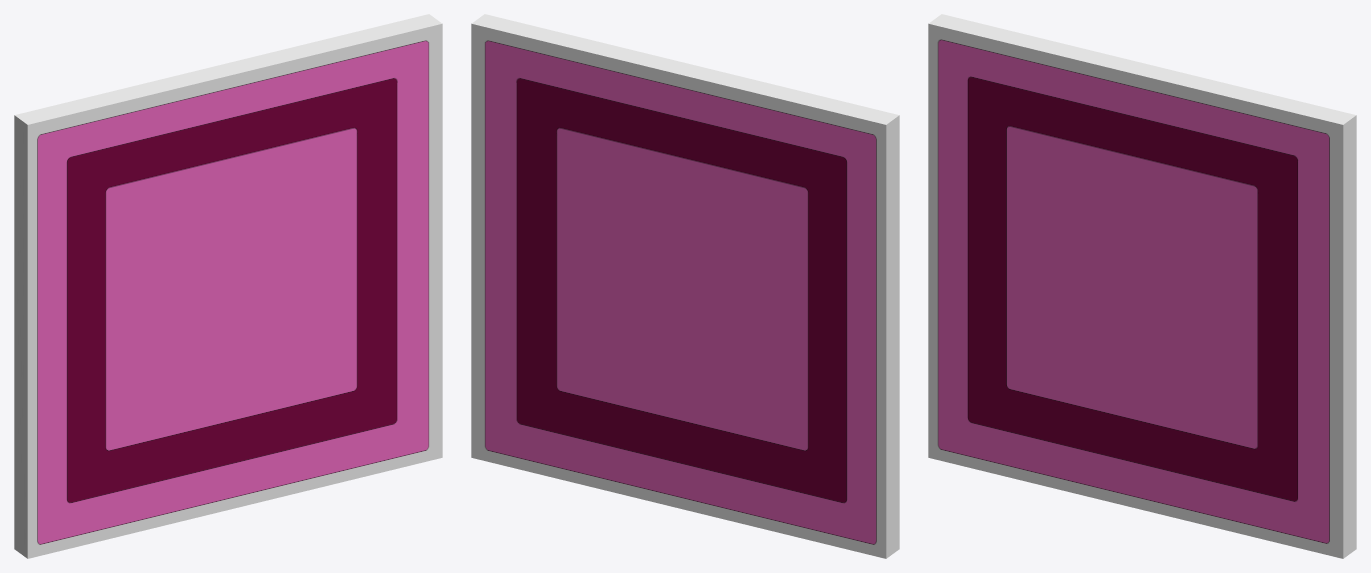
The model's file is LvlBack2.obj.
3 views of the same model, side by side, from view 1: azimuth 30°, elevation 25°; view 2: azimuth 150°, elevation 25°; view 3: azimuth 330°, elevation 25° (orthographic).
Visible parts, largest first — view 1: polySurface22; view 2: polySurface22; view 3: polySurface22.
Boxes of the visible parts, x1,y1,x2,y2 form: polySurface22: (14,14,442,558); polySurface22: (471,14,899,558); polySurface22: (928,14,1356,558).
Bounding box in the file's own units: 4 × 4 × 0.2223.
Materials: 1 (1 with a texture image).
